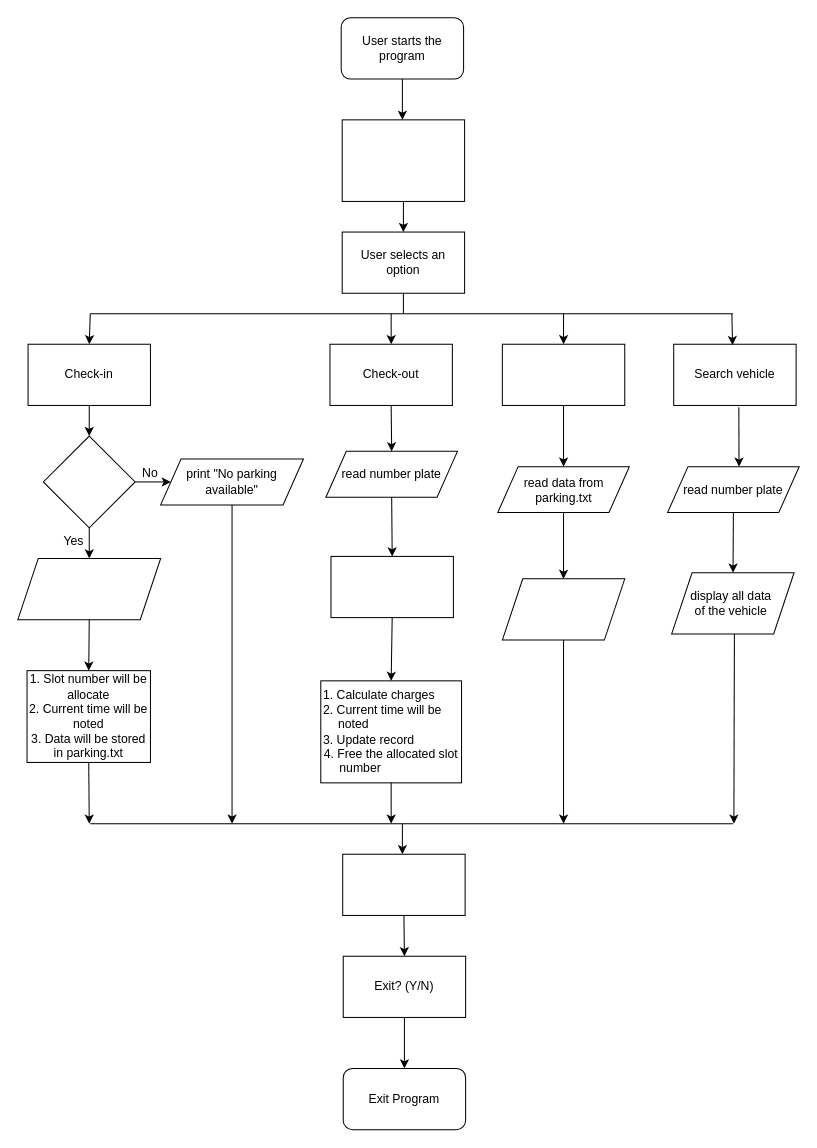
Some shapes in this 817 by 1148 pixel diagram are drawn without their labels. The centre of each missing label's shape, as x and y in pixels:
all data will be display: point 563,609
Display main menu: 1. Check-in 2. Check-out 3. View History 4. Exit: point 403,160
found number plate in parking.txt: point 391,586
is slot available?: point 88,481
Read vechicle info: 1. Number plate 2. Vechicle type: point 89,588
Return to Main menu: point 403,884
View History: point 563,374
